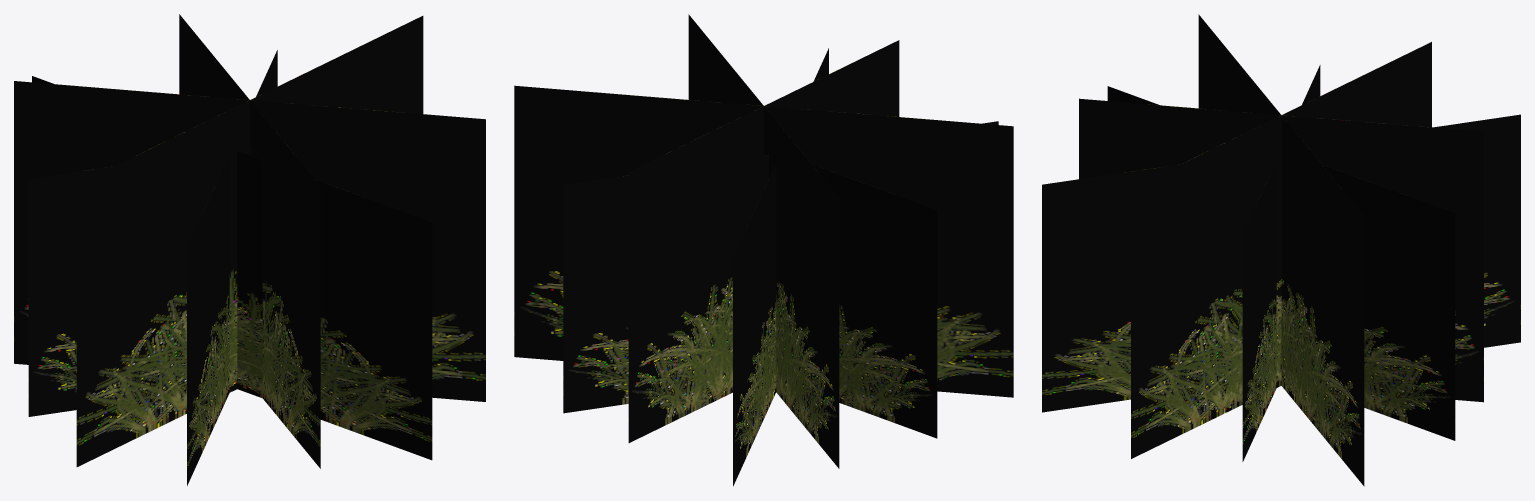
The model's file is grass_medium_01.glb.
3 views of the same model, side by side, from view 1: azimuth 30°, elevation 25°; view 2: azimuth 150°, elevation 25°; view 3: azimuth 270°, elevation 25° (orthographic). The views are drawn at different scales.
Visible parts, largest first — view 1: world; view 2: world; view 3: world.
Part boxes in pixels (x1,y1,x2,y2): world: [14, 14, 485, 485]; world: [514, 14, 1013, 486]; world: [1042, 14, 1520, 486].
Bounding box in the file's own units: 1.22 × 0.76 × 1.22.
Materials: 1 (1 with a texture image).
